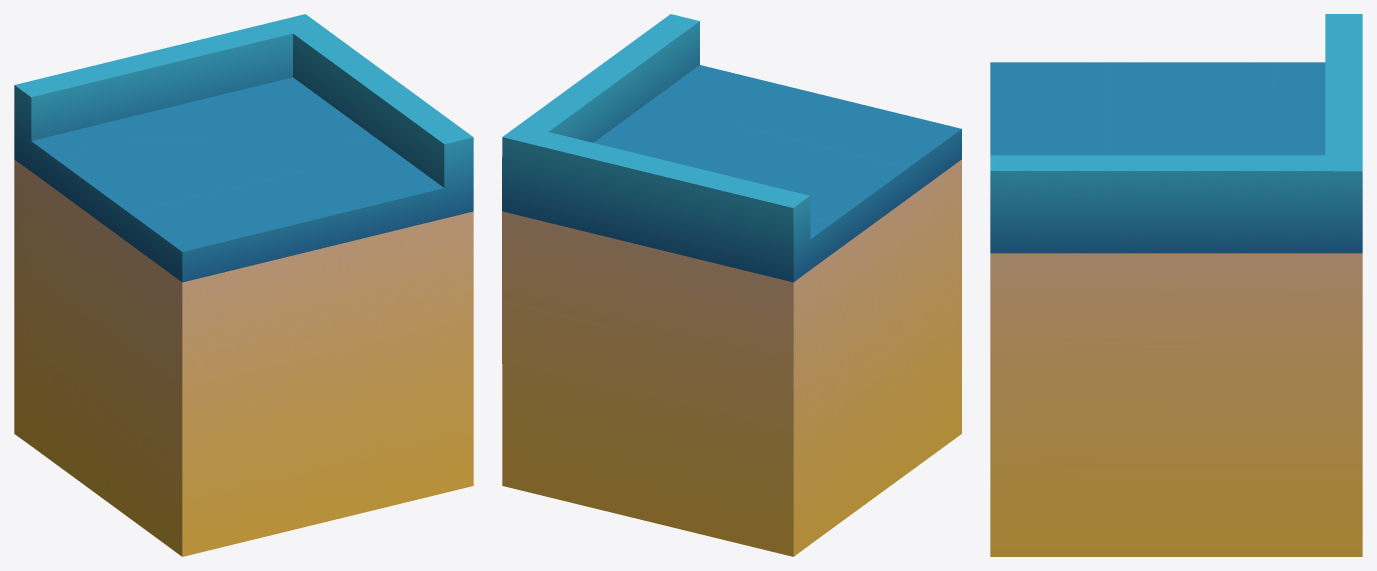
Rendered from CounterCorner.fbx.
3 renders of one model, left to right at view 1: azimuth 30°, elevation 25°; view 2: azimuth 150°, elevation 25°; view 3: azimuth 270°, elevation 25°, orthographic. The views are drawn at different scales.
Parts seen in each view (by area): view 1: CounterCorner; view 2: CounterCorner; view 3: CounterCorner.
Part boxes in pixels (<box>): CounterCorner: <box>14,14,473,556</box>; CounterCorner: <box>502,14,961,556</box>; CounterCorner: <box>990,14,1362,556</box>.
Bounding box in the file's own units: 1 × 1.14 × 1.
